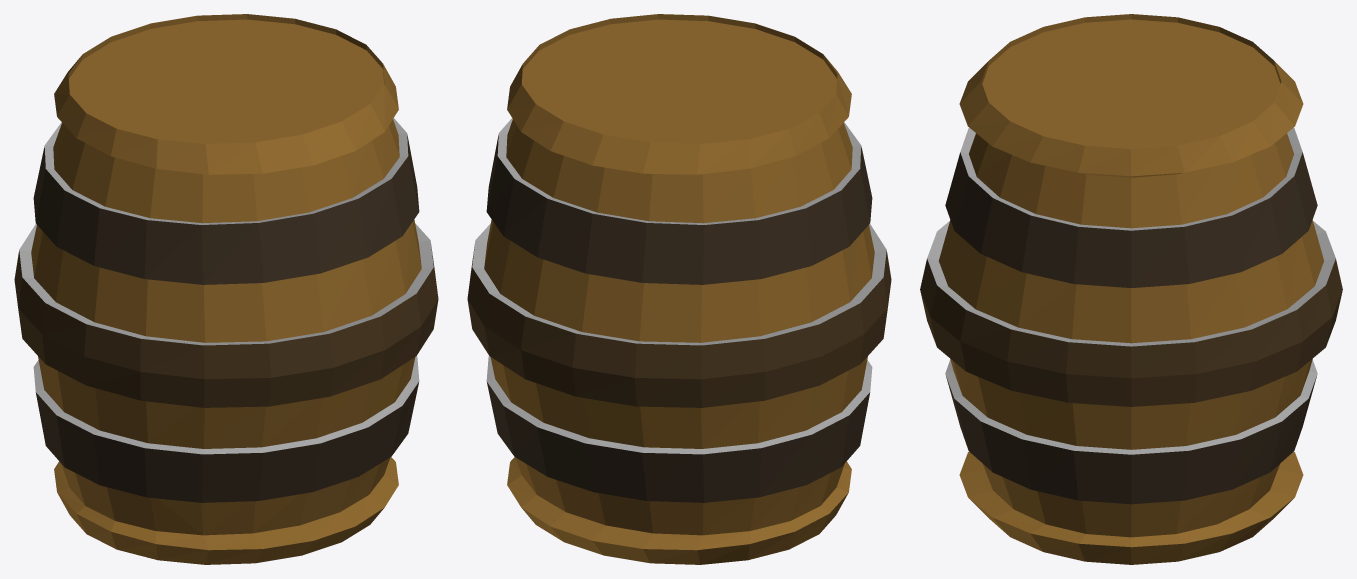
File: tonneau proto.fbx
The picture shows the model from 3 angles, left to right: view 1: azimuth 30°, elevation 25°; view 2: azimuth 150°, elevation 25°; view 3: azimuth 270°, elevation 25°; orthographic projection.
Visible parts, largest first — view 1: pCylinder1; view 2: pCylinder1; view 3: pCylinder1.
Boxes of the visible parts, x1,y1,x2,y2 form: pCylinder1: (14,14,438,564); pCylinder1: (467,14,891,564); pCylinder1: (920,14,1342,564).
Bounding box in the file's own units: 1.79 × 1.95 × 1.8.
